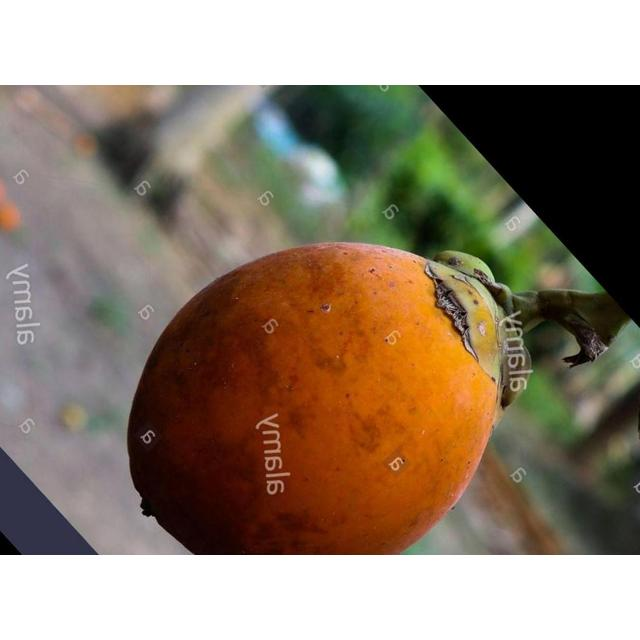good: (126, 243, 529, 555)
